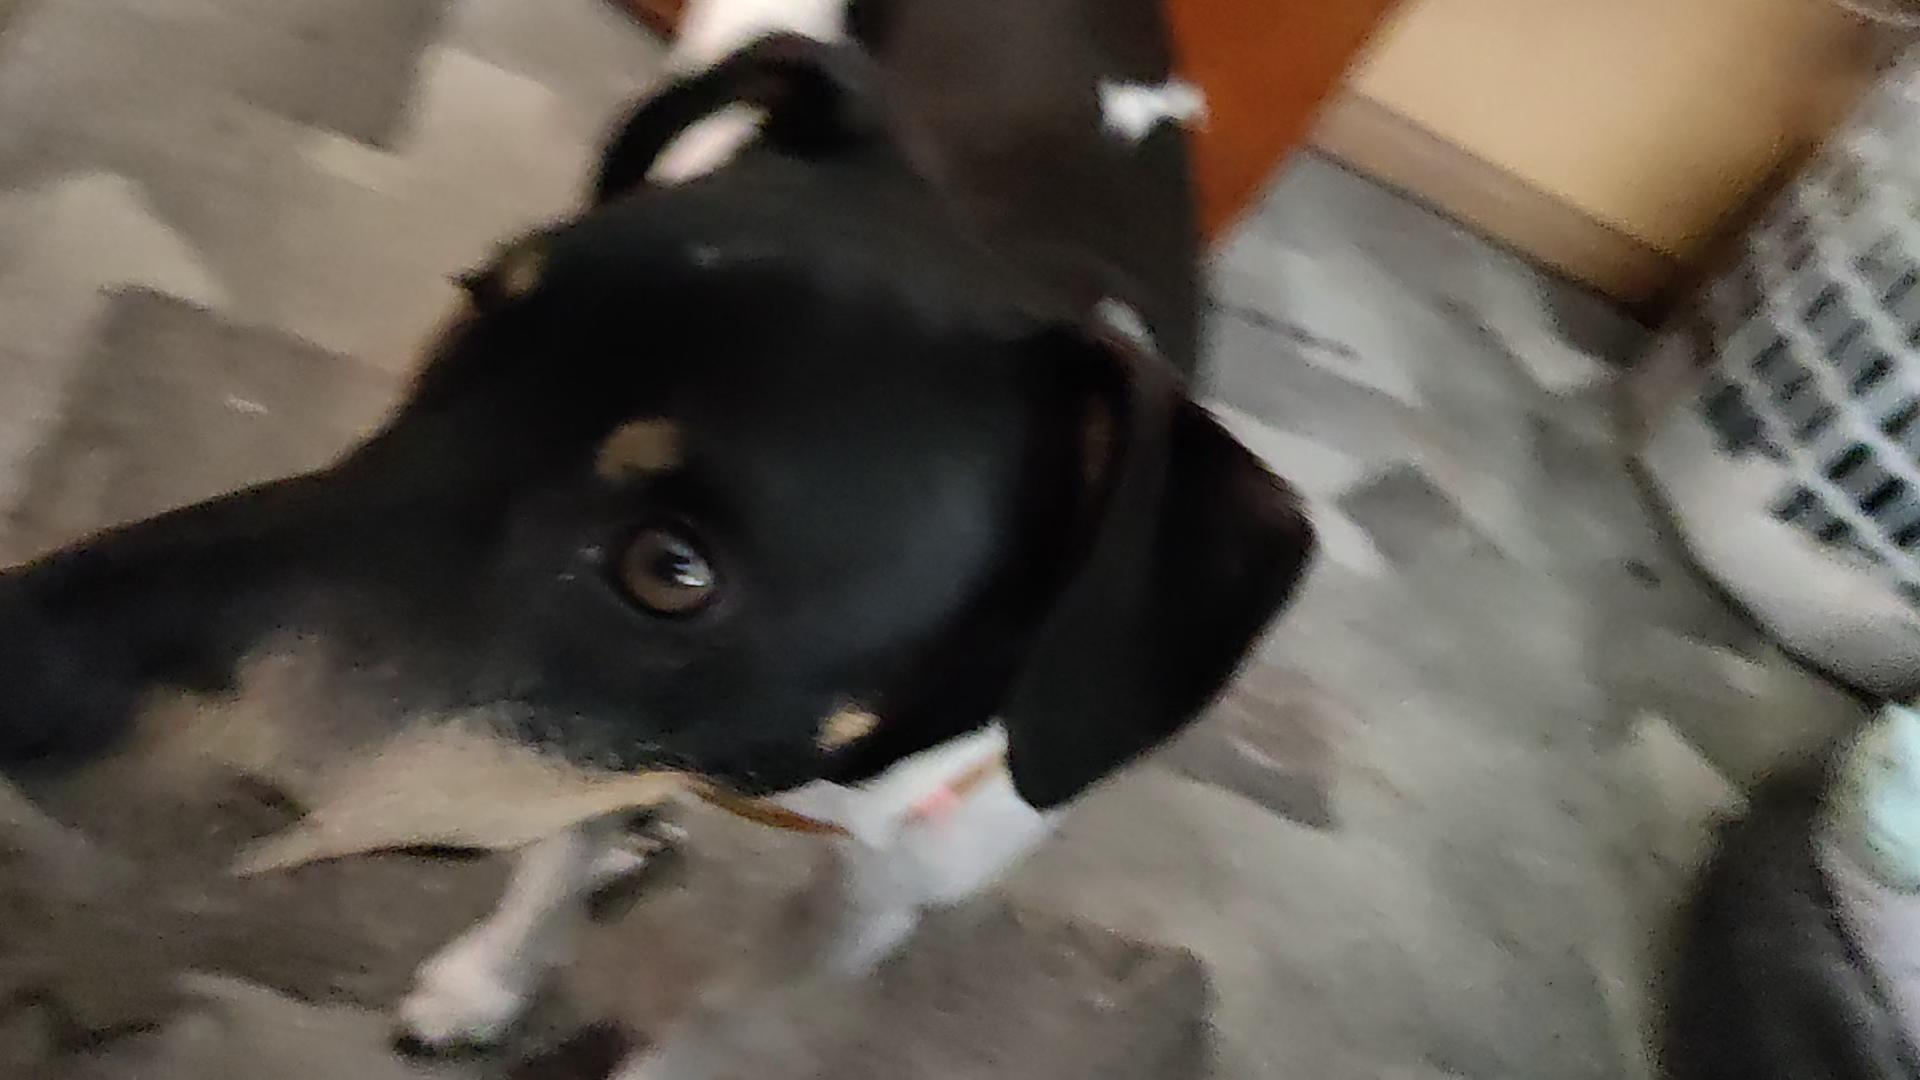Dog: (0, 0, 1324, 1080)
